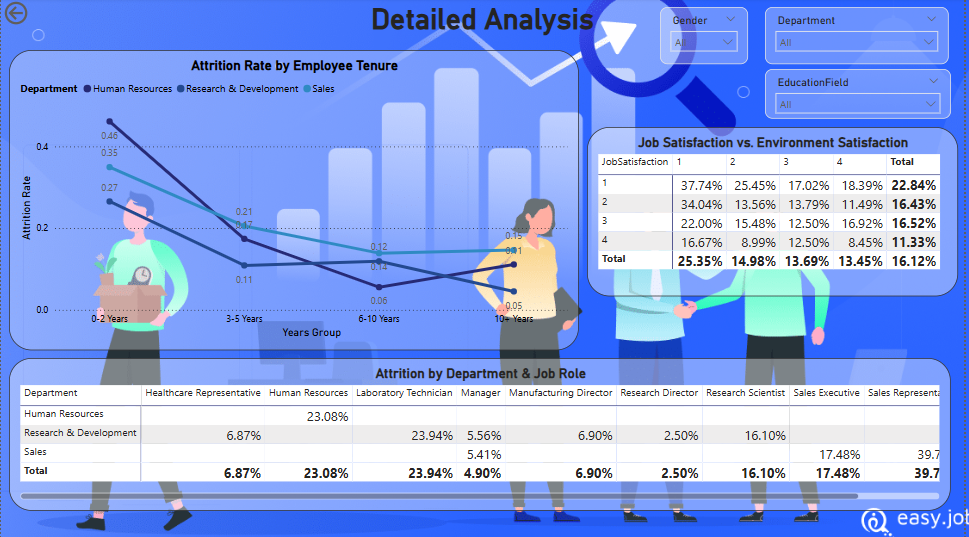

The dashboard page shown, as its layout file describes it:
{"tool":"powerbi","page":{"name":"Page 4","canvas":[1280,720],"ordinal":2},"visuals":[{"type":"textbox","box":[453,0,373.3,69.1],"z":0},{"type":"actionButton","box":[0,0,100,40],"z":1000},{"type":"pivotTable","title":"Job Satisfaction vs. Environment Satisfaction","fields":{"Rows":["EmployeeData.JobSatisfaction"],"Columns":["EmployeeData.EnvironmentSatisfaction"],"Values":["EmployeeData.Attrition Rate"]},"box":[778.5,171.4,492.8,224.5],"z":2000},{"type":"lineChart","title":"Attrition Rate by Employee Tenure","fields":{"Category":["EmployeeData.Years Group"],"Y":["EmployeeData.Attrition Rate"],"Series":["EmployeeData.Department"]},"box":[10.6,69.1,757.2,398.5],"z":3000},{"type":"pivotTable","title":"Attrition by Department & Job Role","fields":{"Rows":["EmployeeData.Department"],"Columns":["EmployeeData.JobRole"],"Values":["EmployeeData.Attrition Rate"]},"box":[10.6,478.2,1251.4,203.2],"z":4000},{"type":"slicer","fields":{"Values":["EmployeeData.Department"]},"box":[1014.9,12,244.4,75.7],"z":5000},{"type":"slicer","fields":{"Values":["EmployeeData.Gender"]},"box":[875.4,12,116.9,75.7],"z":6000},{"type":"slicer","fields":{"Values":["EmployeeData.EducationField"]},"box":[1014.9,94.3,247.1,66.4],"z":7000}]}

Visuals, with their boxes in screenshot pixels (x1, y1, x2, y2), scaled from the page's 1280x720 canvas onto the 969x537 screenshot:
textbox: region(343, 0, 626, 52)
actionButton: region(0, 0, 76, 30)
"Job Satisfaction vs. Environment Satisfaction" pivotTable: region(589, 128, 962, 295)
"Attrition Rate by Employee Tenure" lineChart: region(8, 52, 581, 349)
"Attrition by Department & Job Role" pivotTable: region(8, 357, 955, 508)
slicer - EmployeeData.Department: region(768, 9, 953, 65)
slicer - EmployeeData.Gender: region(663, 9, 751, 65)
slicer - EmployeeData.EducationField: region(768, 70, 955, 120)
